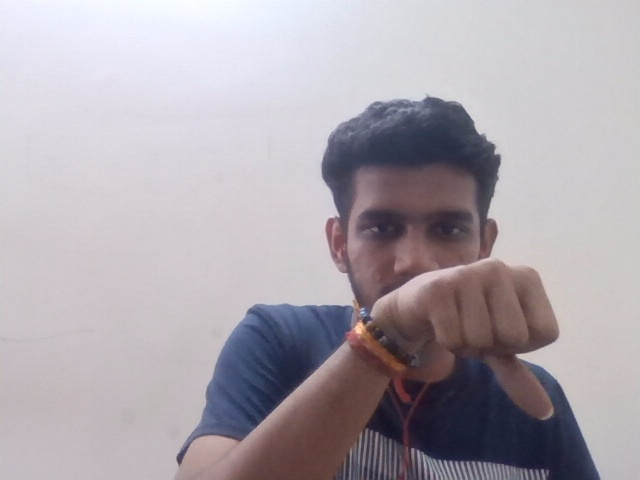yes: (354, 243, 575, 433)
